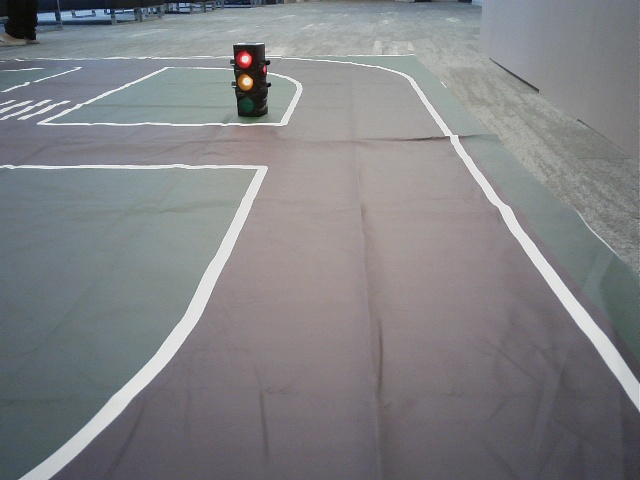red: (234, 45, 257, 114)
